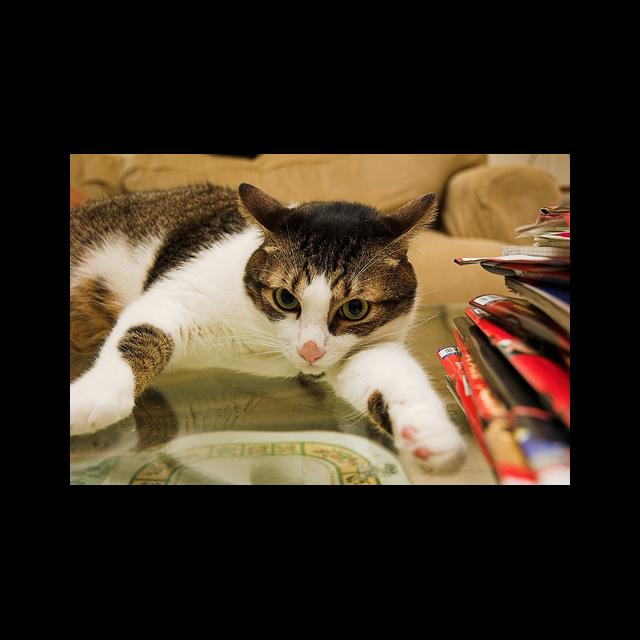animals: (243, 182, 433, 360)
